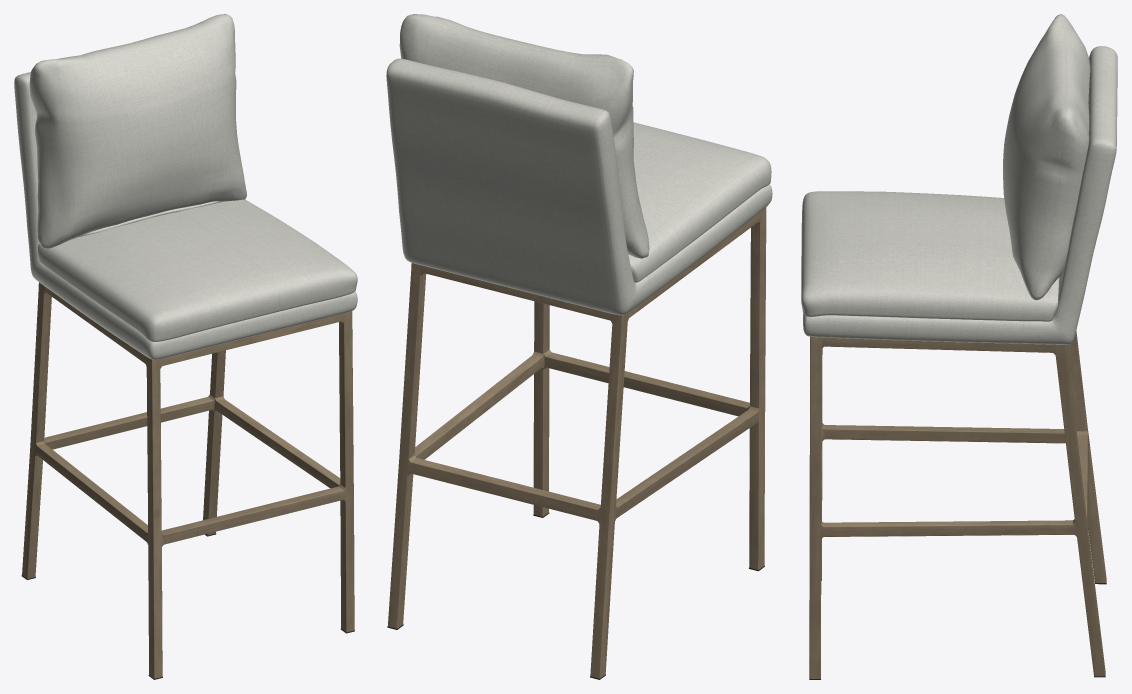
3 renders of one model, left to right at view 1: azimuth 30°, elevation 25°; view 2: azimuth 150°, elevation 25°; view 3: azimuth 270°, elevation 25°, orthographic. The views are drawn at different scales.
Parts seen in each view (by area): view 1: RootNode; view 2: RootNode; view 3: RootNode.
Part boxes in pixels (x1,y1,x2,y2): RootNode: [14, 14, 357, 679]; RootNode: [386, 14, 772, 679]; RootNode: [801, 14, 1117, 679].
Bounding box in the file's own units: 0.4628 × 1.13 × 0.5716.
Materials: 1 (1 with a texture image).
